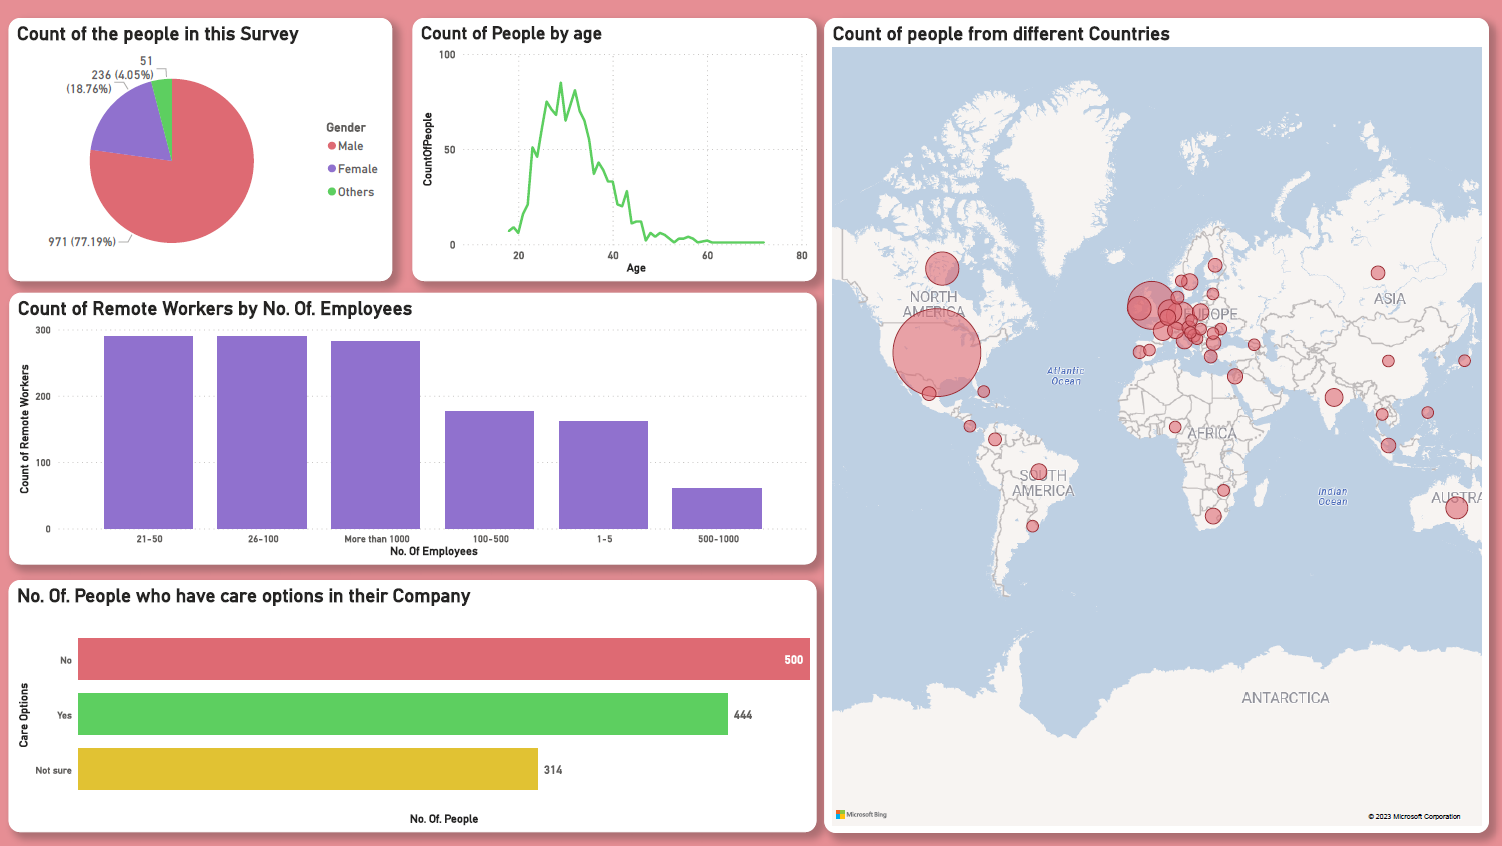

Layout of this report page (visuals, bound fields, positions):
{"tool":"powerbi","page":{"name":"Page 1","canvas":[1920,1080],"ordinal":0},"visuals":[{"type":"lineChart","title":"Count of People by age","fields":{"Category":["cleaned_data.age"],"Y":["cleaned_data.CountOfPeople"]},"box":[526,22,516,336],"z":0},{"type":"pieChart","title":"Count of the people in this Survey ","fields":{"Y":["CountNonNull(cleaned_data.gender)"],"Category":["cleaned_data.gender"]},"box":[10,22,490,336],"z":1000},{"type":"clusteredColumnChart","title":"Count of Remote Workers by No. Of. Employees","fields":{"Category":["cleaned_data.no_employees"],"Y":["CountNonNull(cleaned_data.remote_work)"]},"box":[10.9,372.7,1031.2,347.3],"z":2000},{"type":"barChart","title":"No. Of. People who have care options in their Company","fields":{"Category":["cleaned_data.care_options"],"Y":["cleaned_data.CountOfPeople"]},"box":[10,740,1032,322],"z":3000},{"type":"map","title":"Count of people from different Countries","fields":{"Category":["cleaned_data.country"],"Size":["cleaned_data.CountOfPeople"]},"box":[1052.5,22,849,1041.5],"z":4000}]}

Visuals, with their boxes in screenshot pixels (x1, y1, x2, y2), scaled from the page's 1920x1080 canvas onto the 1502x846 screenshot:
"Count of People by age" lineChart: (left=411, top=17, right=815, bottom=280)
"Count of the people in this Survey " pieChart: (left=8, top=17, right=391, bottom=280)
"Count of Remote Workers by No. Of. Employees" clusteredColumnChart: (left=9, top=292, right=815, bottom=564)
"No. Of. People who have care options in their Company" barChart: (left=8, top=580, right=815, bottom=832)
"Count of people from different Countries" map: (left=823, top=17, right=1488, bottom=833)
